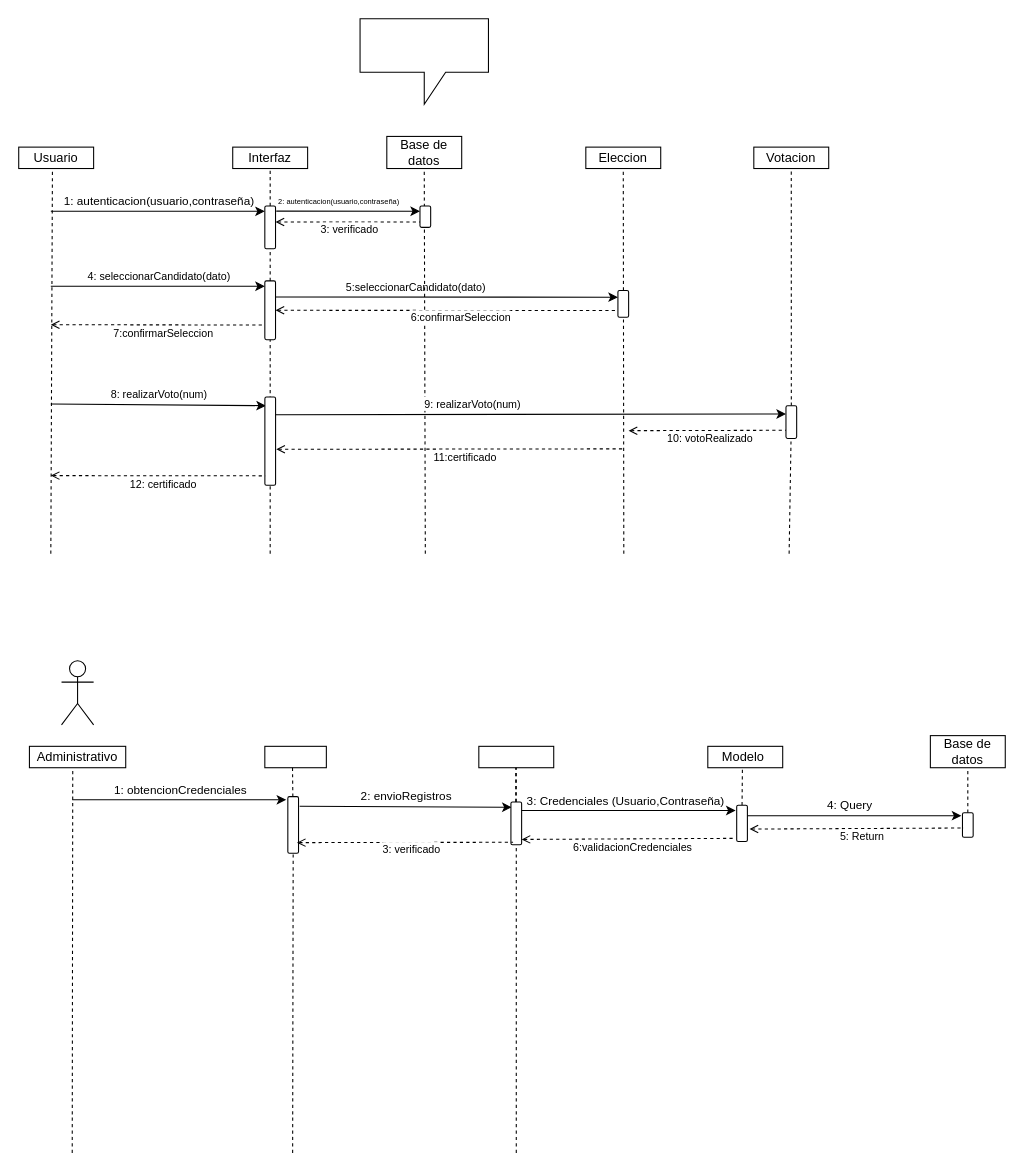
Some shapes in this 1024 by 1173 pixel diagram are drawn without their labels. The shapes that lost their labels are listed below. From the top down, each one's centre as x and y in pixels, then its label:
At [423,61]: "Idea principal".
At [77,692]: "Actor".
At [295,756]: "Vista".
At [516,756]: "Controlador".
